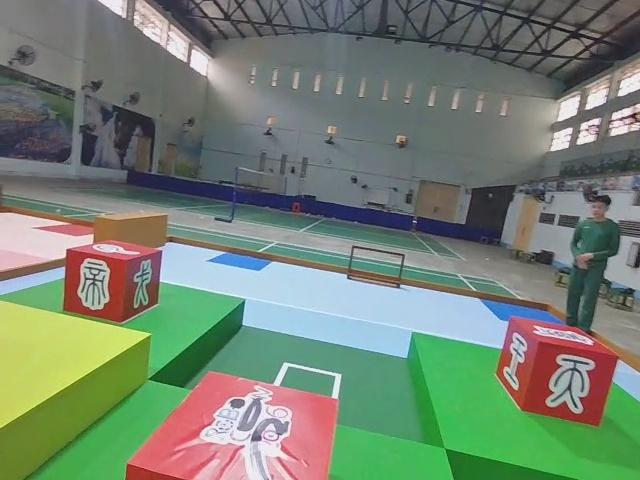R1: (123, 368, 342, 480)
R2 Fake: (494, 313, 621, 427), (62, 237, 164, 323)
